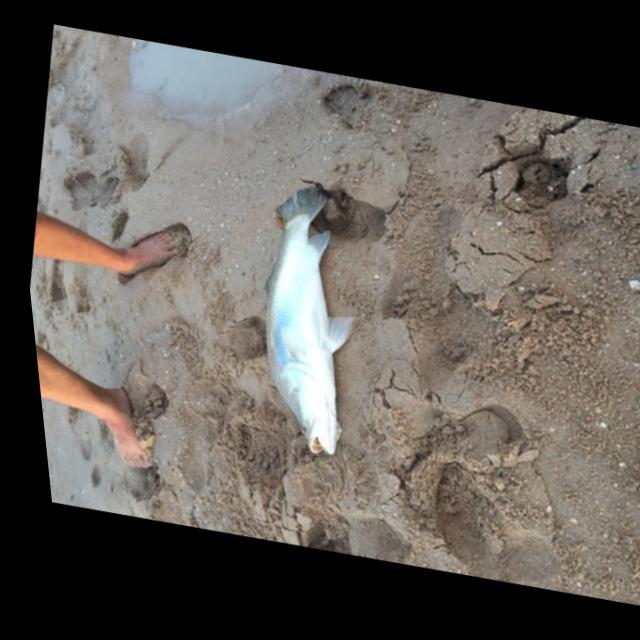Seabass: (226, 180, 391, 461)
